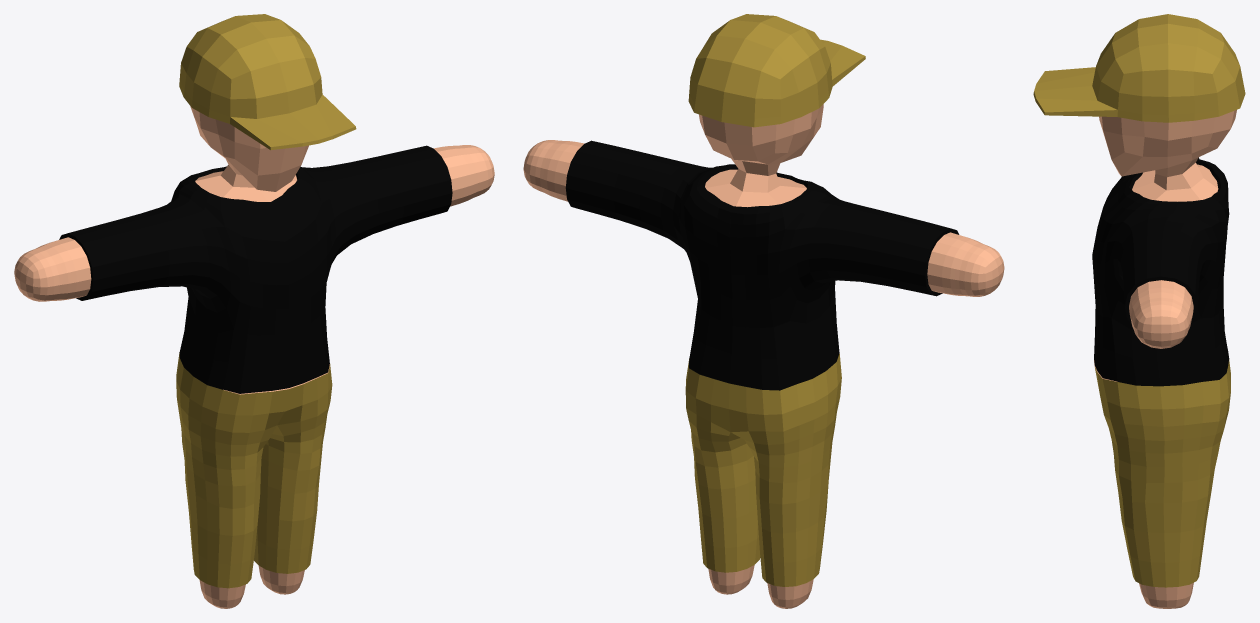
Rendered from Mod7.glb.
3 views of the same model, side by side, from view 1: azimuth 30°, elevation 25°; view 2: azimuth 150°, elevation 25°; view 3: azimuth 270°, elevation 25° (orthographic).
Parts seen in each view (by area): view 1: Modelo 1c; view 2: Modelo 1c; view 3: Modelo 1c.
Boxes of the visible parts, <box> form: Modelo 1c: <box>14,14,494,608</box>; Modelo 1c: <box>523,14,1004,608</box>; Modelo 1c: <box>1033,14,1245,608</box>.
Bounding box in the file's own units: 7.96 × 9.27 × 3.15.
